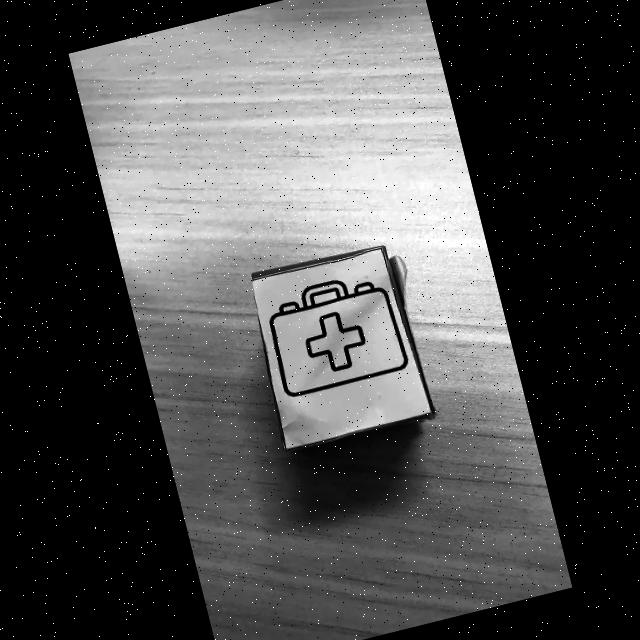Medkit: (269, 280, 410, 396)
